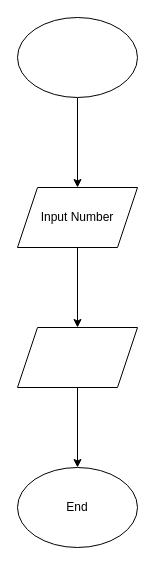
Image size: 155x565. Some labels were removed from this diagram. The centre of each missing label's shape, as x and y in pixels:
Output RomanNumber: the point at 77,357
Start: the point at 77,57
